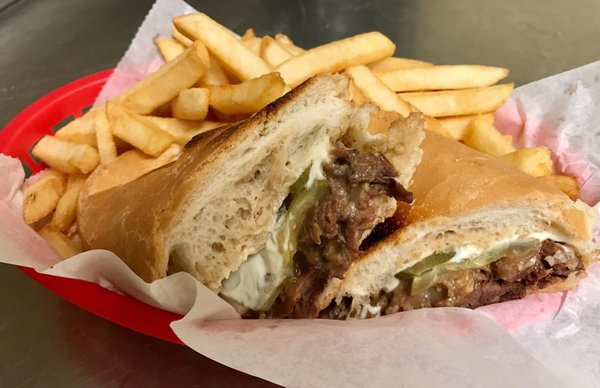soup: (37, 67, 587, 324)
